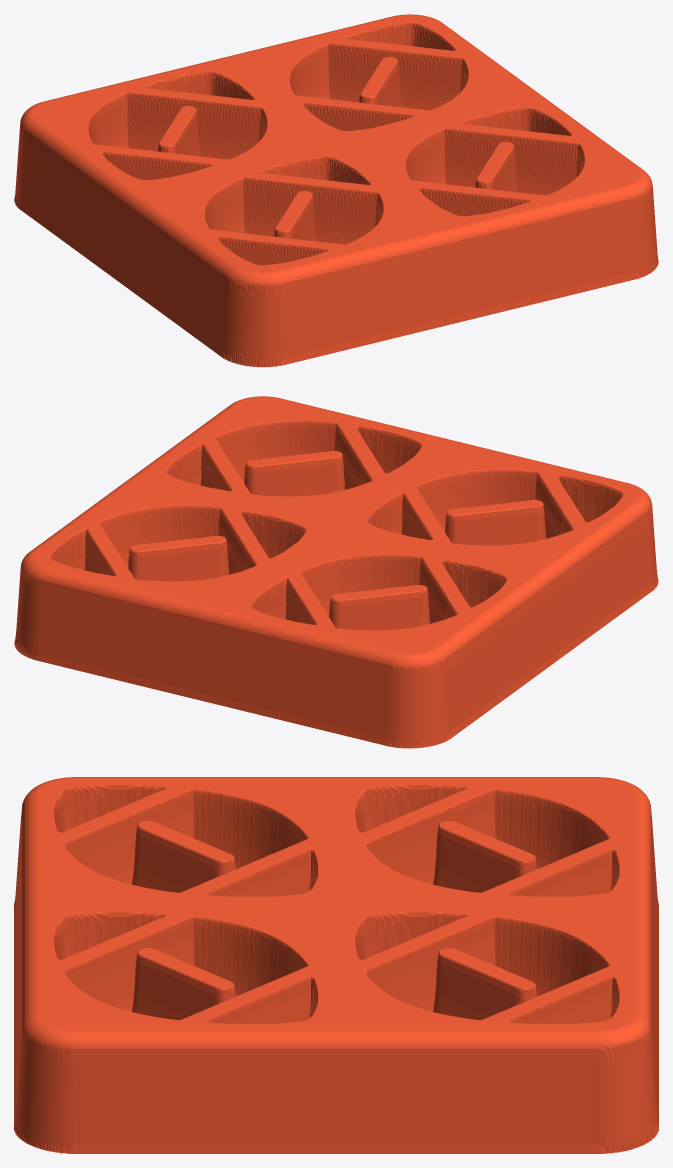
Rendered from mold.glb.
3 renders of one model, top to bottom at view 1: azimuth 30°, elevation 25°; view 2: azimuth 150°, elevation 25°; view 3: azimuth 270°, elevation 25°, orthographic. The views are drawn at different scales.
Parts seen in each view (by area): view 1: geometry_0; view 2: geometry_0; view 3: geometry_0.
Boxes of the visible parts, x1=… form: geometry_0: x1=14, y1=14, x2=658, y2=367; geometry_0: x1=14, y1=396, x2=658, y2=748; geometry_0: x1=14, y1=777, x2=658, y2=1153.
Bounding box in the file's own units: 0.0942 × 0.0182 × 0.0942.
